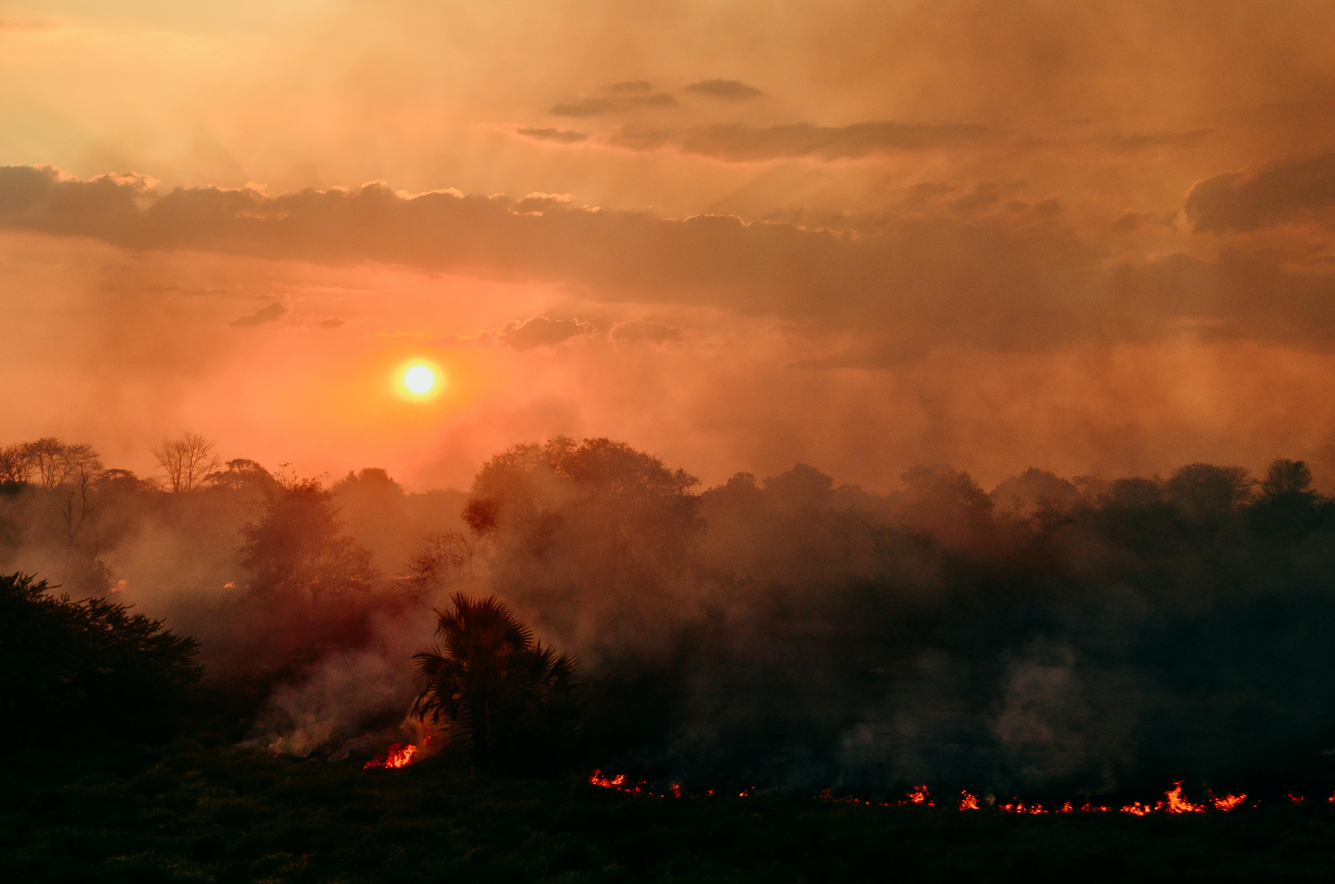fire: (886, 734, 1335, 854), (574, 730, 791, 827), (330, 672, 456, 791)
